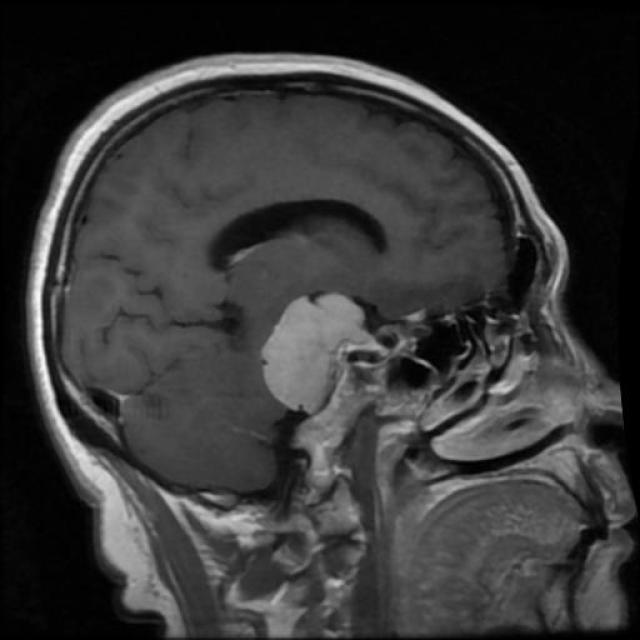meningioma: (264, 295, 364, 415)
